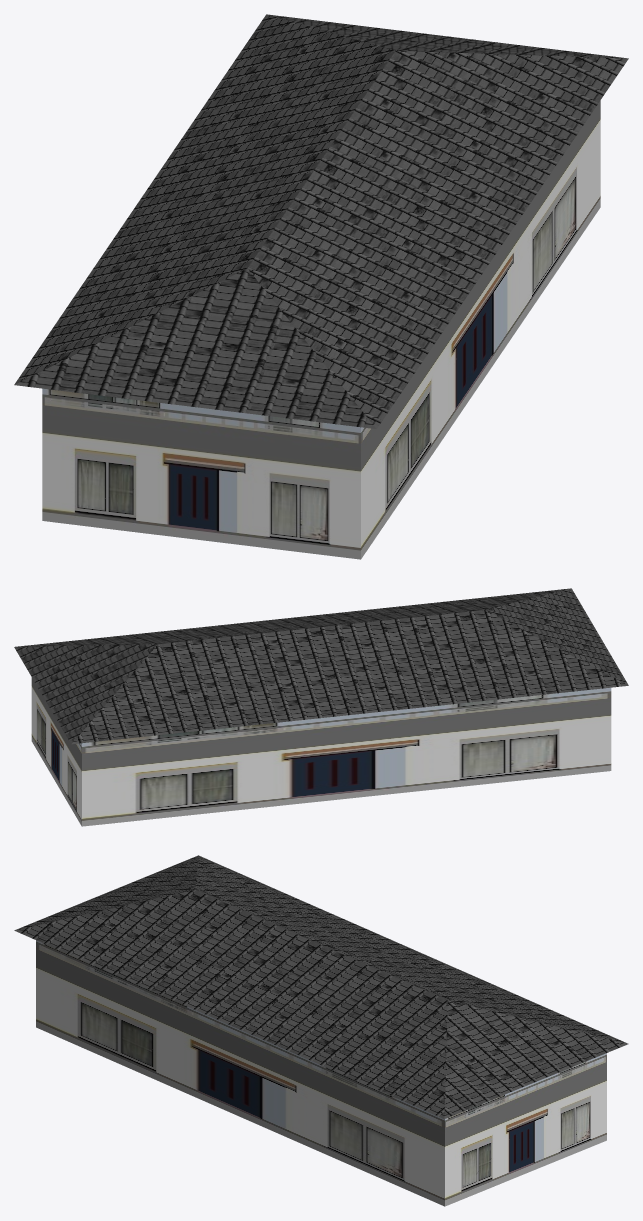
The picture shows the model from 3 angles, top to bottom: view 1: azimuth 30°, elevation 25°; view 2: azimuth 150°, elevation 25°; view 3: azimuth 270°, elevation 25°; orthographic projection. The views are drawn at different scales.
Visible parts, largest first — view 1: CityEngineMaterial_8_m, CityEngineMaterial_7_m; view 2: CityEngineMaterial_8_m, CityEngineMaterial_7_m; view 3: CityEngineMaterial_8_m, CityEngineMaterial_7_m.
Part boxes in pixels (<box>): CityEngineMaterial_8_m: <box>14,14,628,428</box>; CityEngineMaterial_7_m: <box>42,100,600,559</box>; CityEngineMaterial_8_m: <box>14,588,628,744</box>; CityEngineMaterial_7_m: <box>31,677,611,826</box>; CityEngineMaterial_8_m: <box>14,855,628,1118</box>; CityEngineMaterial_7_m: <box>36,940,606,1206</box>.
Bounding box in the file's own units: 37.6 × 9.24 × 37.04.
